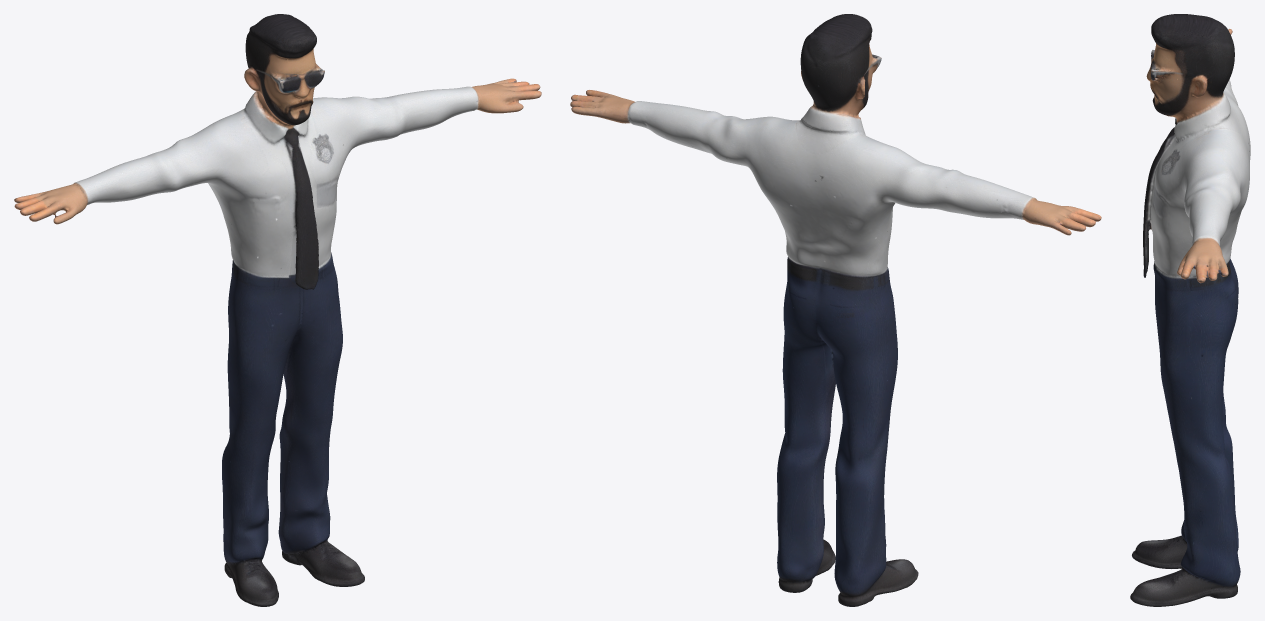
The model's file is Security Guard.fbx.
The picture shows the model from 3 angles, left to right: view 1: azimuth 30°, elevation 25°; view 2: azimuth 150°, elevation 25°; view 3: azimuth 270°, elevation 25°; orthographic projection.
Parts seen in each view (by area): view 1: Mesh_0; view 2: Mesh_0; view 3: Mesh_0.
Part boxes in pixels (x1=…): Mesh_0: x1=14, y1=14, x2=541, y2=606; Mesh_0: x1=570, y1=14, x2=1101, y2=606; Mesh_0: x1=1130, y1=14, x2=1250, y2=606.
Bounding box in the file's own units: 196 × 200 × 38.89.
Materials: 1 (1 with a texture image).
